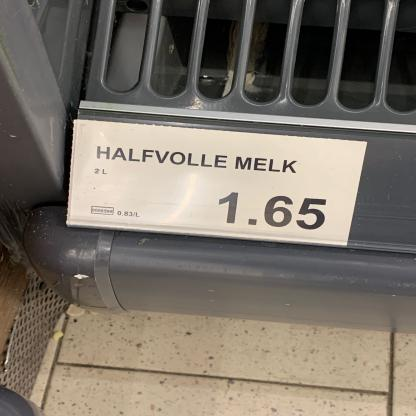prtg: (67, 119, 369, 247)
